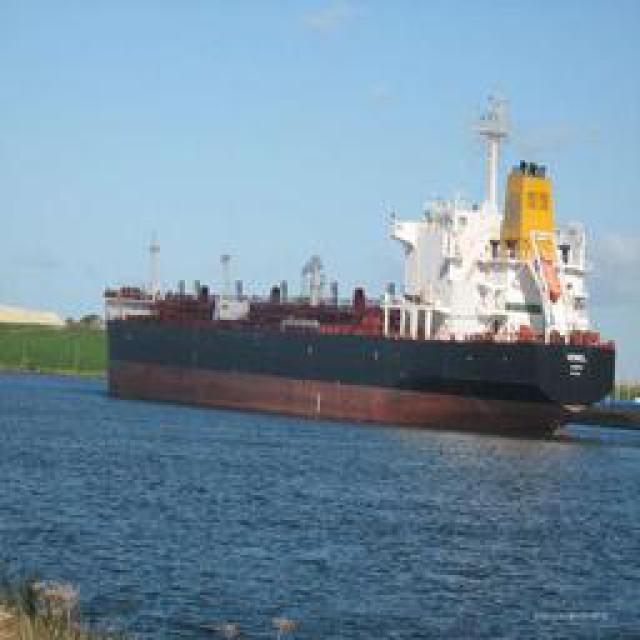Ship: (114, 131, 617, 424)
